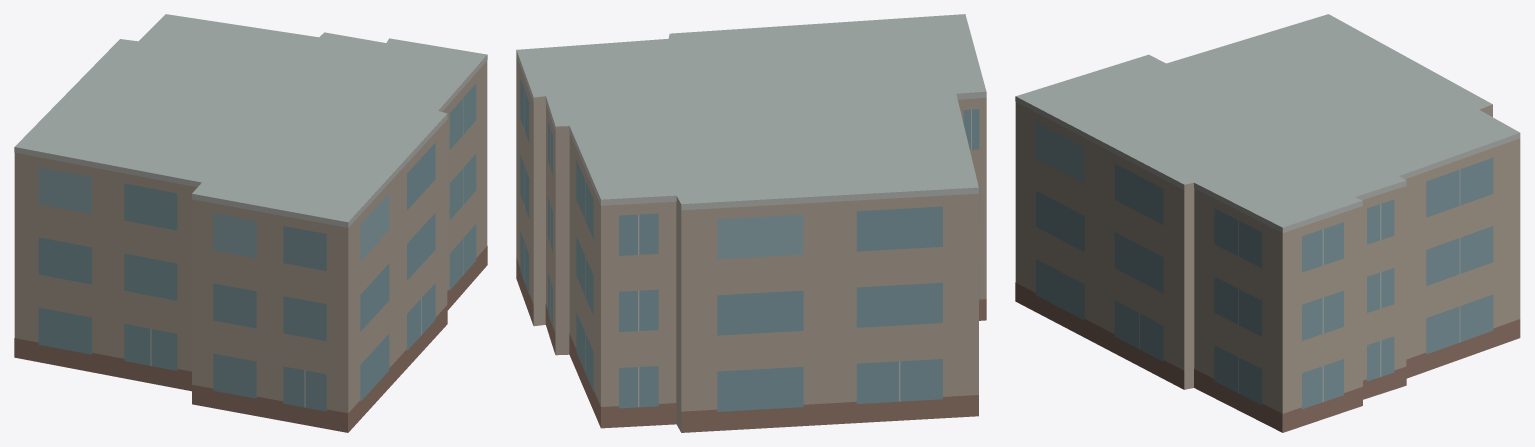
Rendered from survey-upis-33043165.glb.
3 renders of one model, left to right at view 1: azimuth 30°, elevation 25°; view 2: azimuth 150°, elevation 25°; view 3: azimuth 270°, elevation 25°, orthographic. The views are drawn at different scales.
Visible parts, largest first — view 1: survey-upis-33043165.tmp; view 2: survey-upis-33043165.tmp; view 3: survey-upis-33043165.tmp.
Part boxes in pixels (bbox=[...]): survey-upis-33043165.tmp: bbox=[14, 14, 487, 432]; survey-upis-33043165.tmp: bbox=[516, 14, 986, 432]; survey-upis-33043165.tmp: bbox=[1015, 14, 1520, 432].
Bounding box in the file's own units: 20.44 × 9.15 × 20.41.
